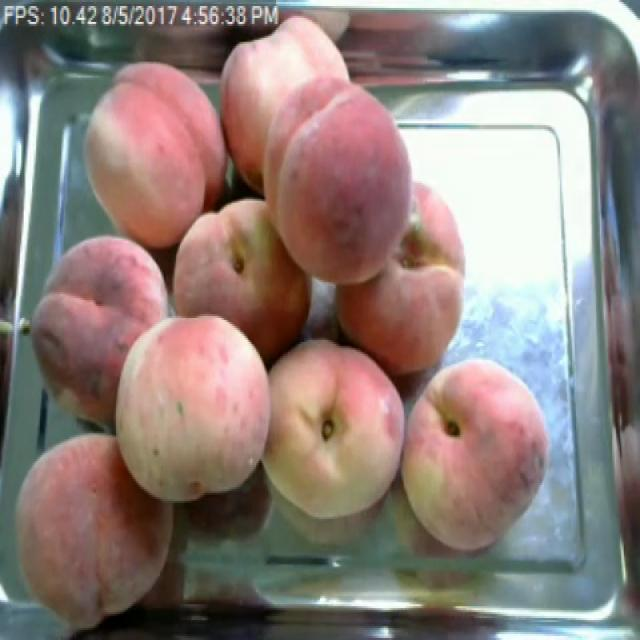Fruit: (93, 300, 290, 523), (0, 417, 192, 640), (15, 219, 185, 461), (254, 84, 426, 298), (389, 352, 562, 564), (251, 326, 416, 533), (330, 169, 478, 386), (76, 52, 229, 256), (164, 185, 324, 374), (216, 10, 361, 199)
